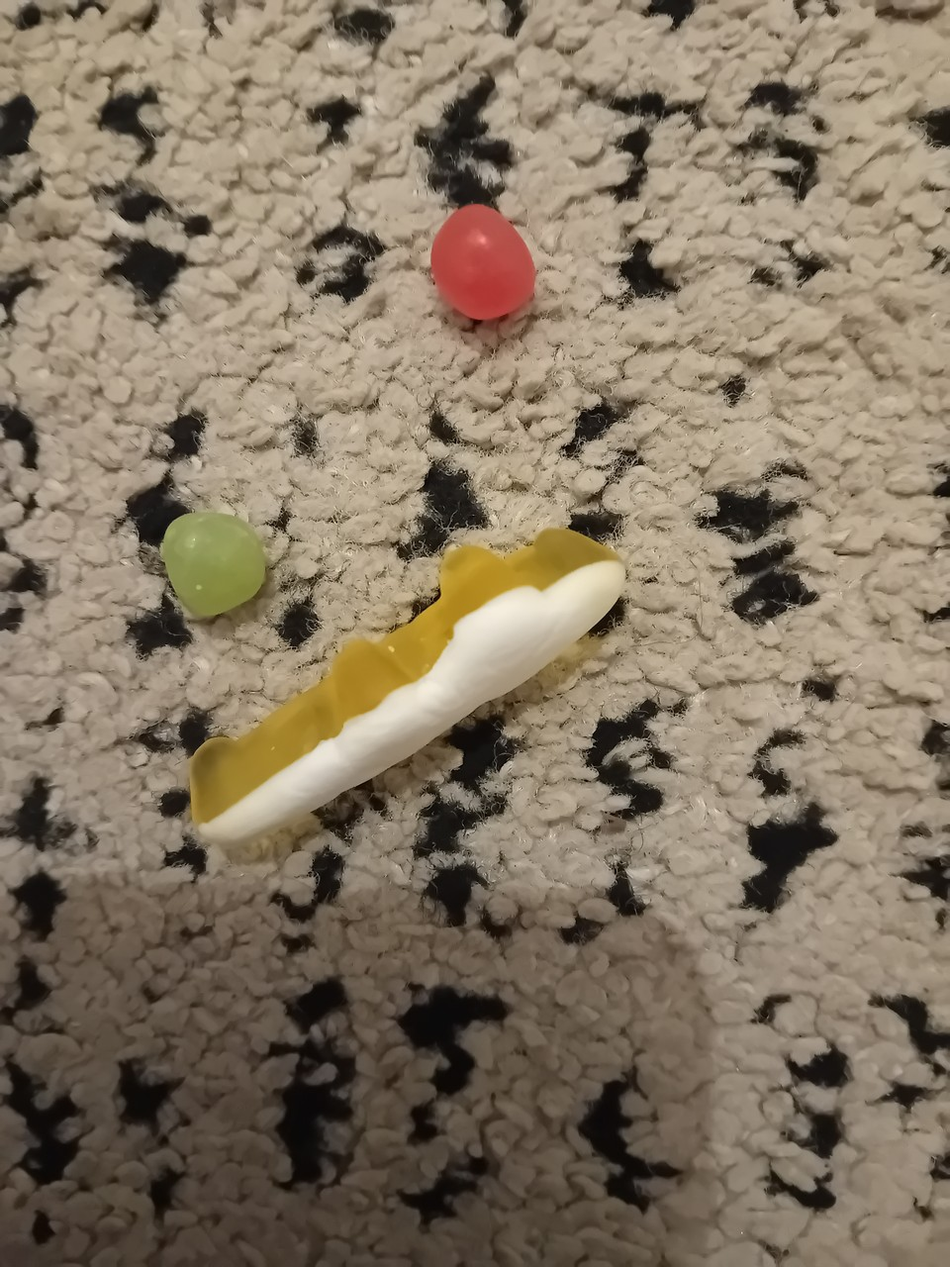crocodile_jaune: (184, 517, 632, 849)
dragibus_rouge: (425, 196, 543, 326)
dragibus_vert: (155, 502, 277, 625)
